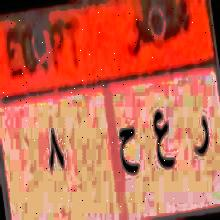7aa: (116, 118, 142, 192)
8: (41, 116, 65, 182)
ain: (148, 101, 180, 183)
raa: (190, 107, 212, 174)
